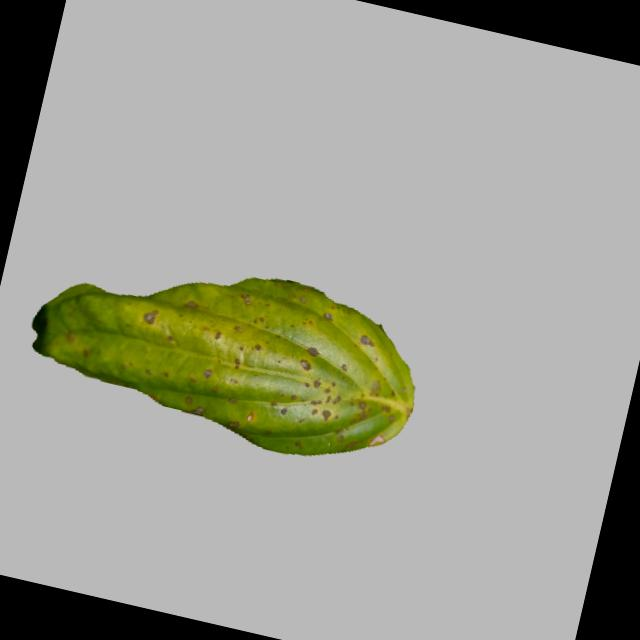yellow-mottle-virus: (9, 222, 438, 489)
